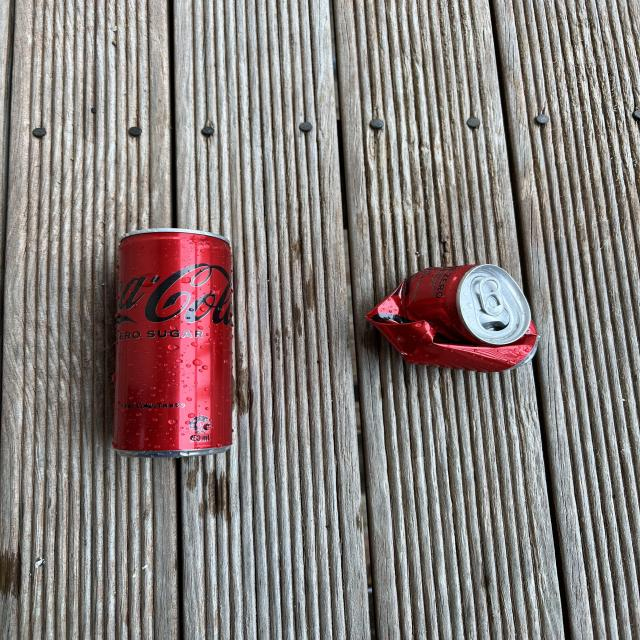can: (111, 227, 235, 459), (365, 262, 540, 372)
pop tab: (479, 276, 506, 316)
